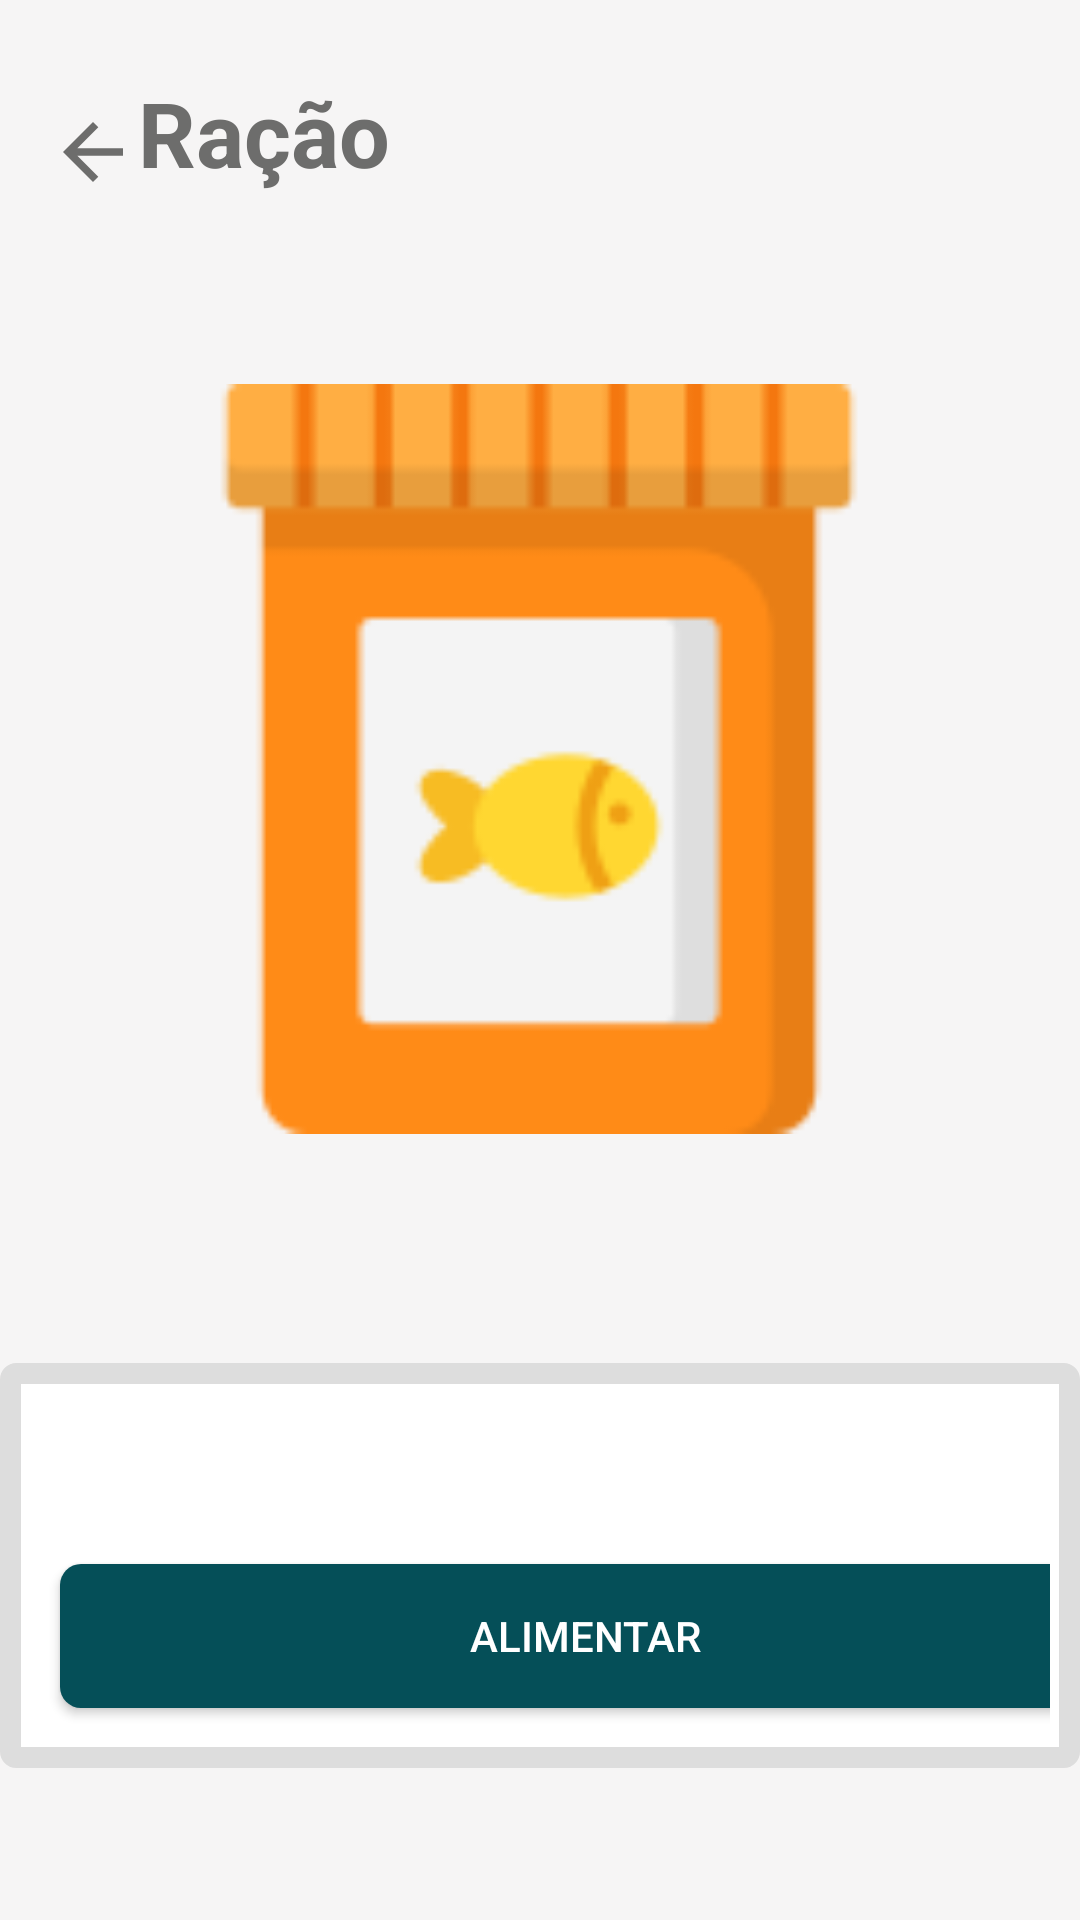

Icons on this 1080 × 1920 Android screen, each with the point to tap as (x,y):
arrowback: (93,152)
